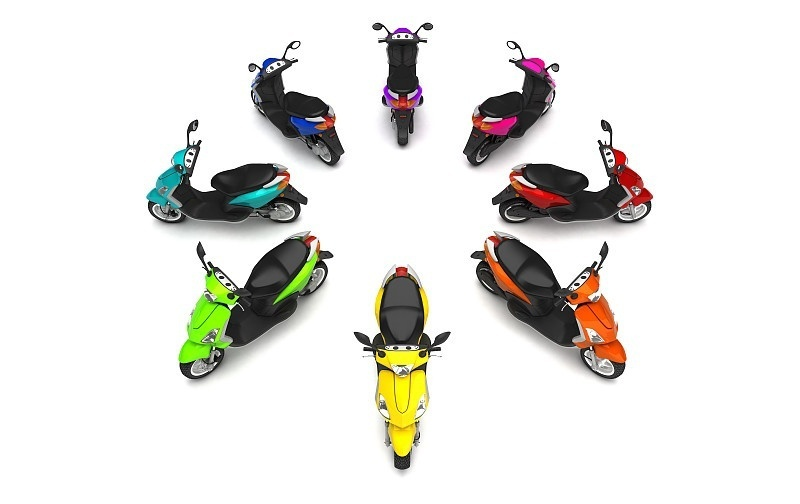non-vehicle: (474, 235, 626, 375), (179, 236, 333, 368), (144, 133, 309, 229), (359, 277, 451, 444), (495, 133, 647, 229), (244, 35, 340, 169), (461, 43, 564, 159), (374, 24, 431, 139)
